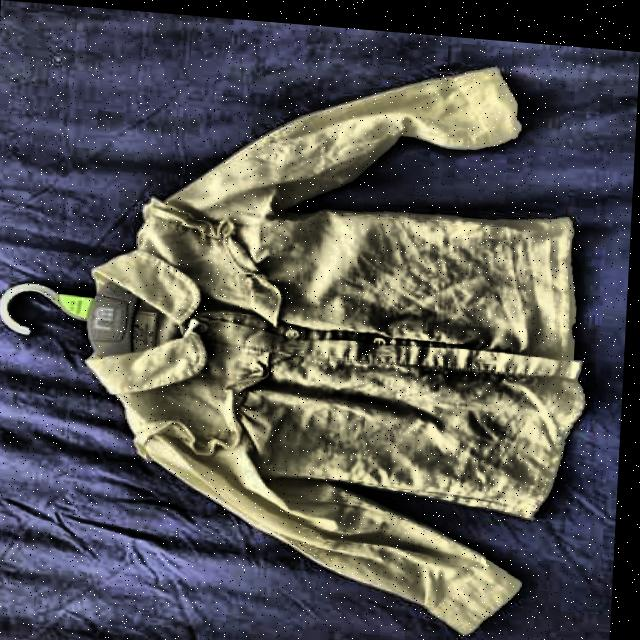clothes: (71, 35, 601, 640)
